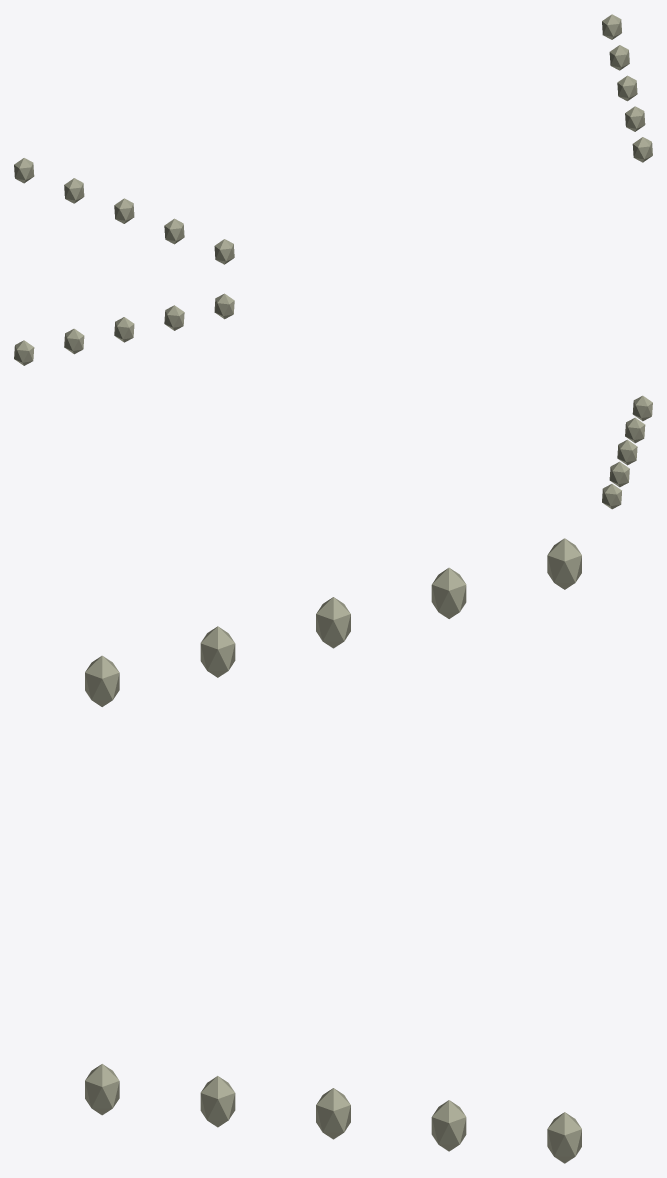
Rendered from rift_gallery_infinite.glb.
The picture shows the model from 3 angles, top to bottom: view 1: azimuth 30°, elevation 25°; view 2: azimuth 150°, elevation 25°; view 3: azimuth 270°, elevation 25°; orthographic projection. The views are drawn at different scales.
Visible parts, largest first — view 1: MovingFloat; view 2: MovingFloat; view 3: MovingFloat.
Part boxes in pixels (x1,y1,x2,y2): MovingFloat: (14, 14, 652, 264); MovingFloat: (14, 293, 652, 509); MovingFloat: (85, 538, 581, 1163).
Bounding box in the file's own units: 20.59 × 1.4 × 7.31.
